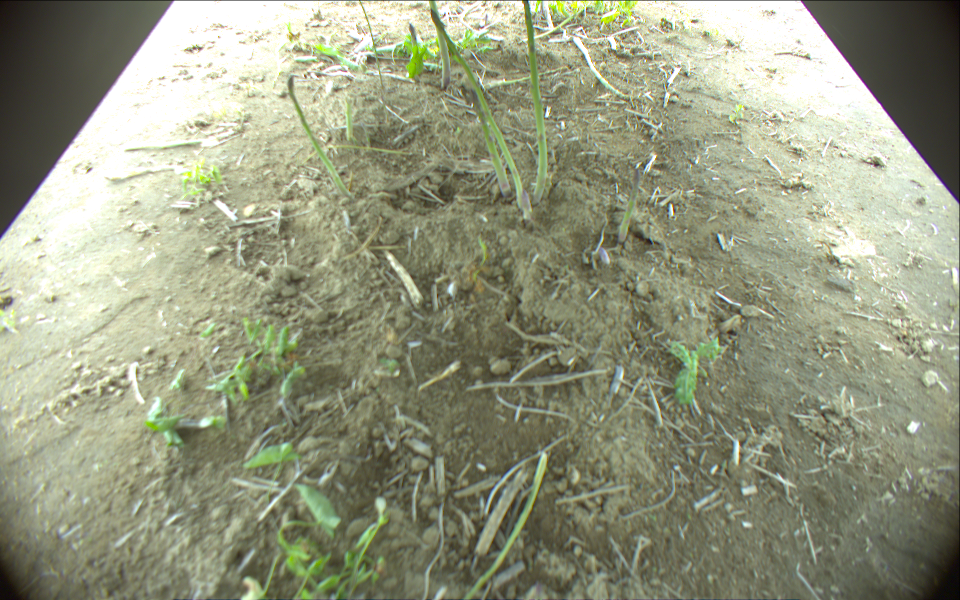aspa: (429, 9, 525, 209), (464, 452, 548, 599), (286, 79, 351, 195), (517, 1, 549, 206), (467, 85, 512, 198), (458, 9, 575, 43), (573, 35, 630, 97), (356, 1, 386, 90), (617, 160, 644, 243), (428, 1, 452, 87), (128, 132, 230, 151), (405, 18, 422, 75), (341, 92, 354, 142), (521, 189, 533, 220)
